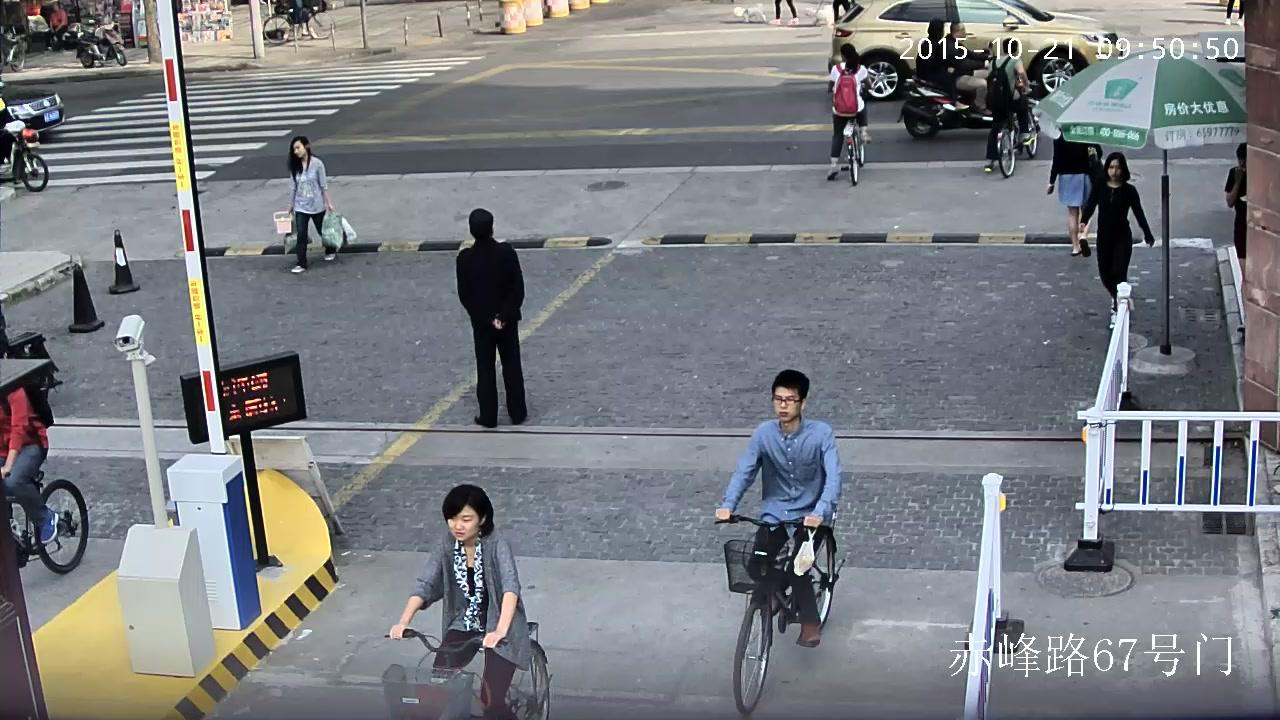person: (713, 367, 845, 714), (380, 482, 553, 720), (715, 369, 842, 646), (388, 483, 532, 720), (0, 328, 88, 573), (455, 208, 527, 427), (1078, 152, 1154, 330), (0, 329, 58, 545), (272, 135, 357, 273), (896, 21, 995, 137), (983, 38, 1036, 177), (1047, 129, 1103, 256), (984, 38, 1033, 173), (826, 43, 872, 186), (287, 136, 335, 272), (826, 43, 872, 180), (916, 17, 970, 109), (944, 21, 993, 115), (1226, 141, 1249, 332), (264, 0, 334, 44), (280, 0, 305, 40), (49, 1, 66, 51), (768, 0, 798, 25)
